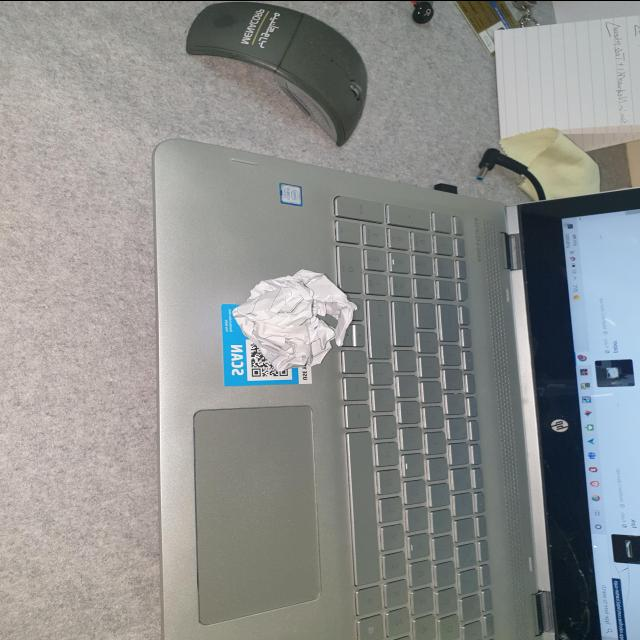kertas: (228, 264, 363, 375)
